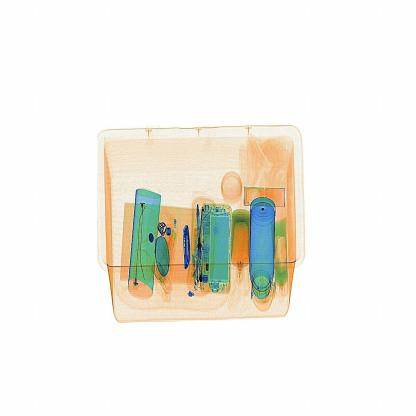knife: (175, 221, 204, 275)
